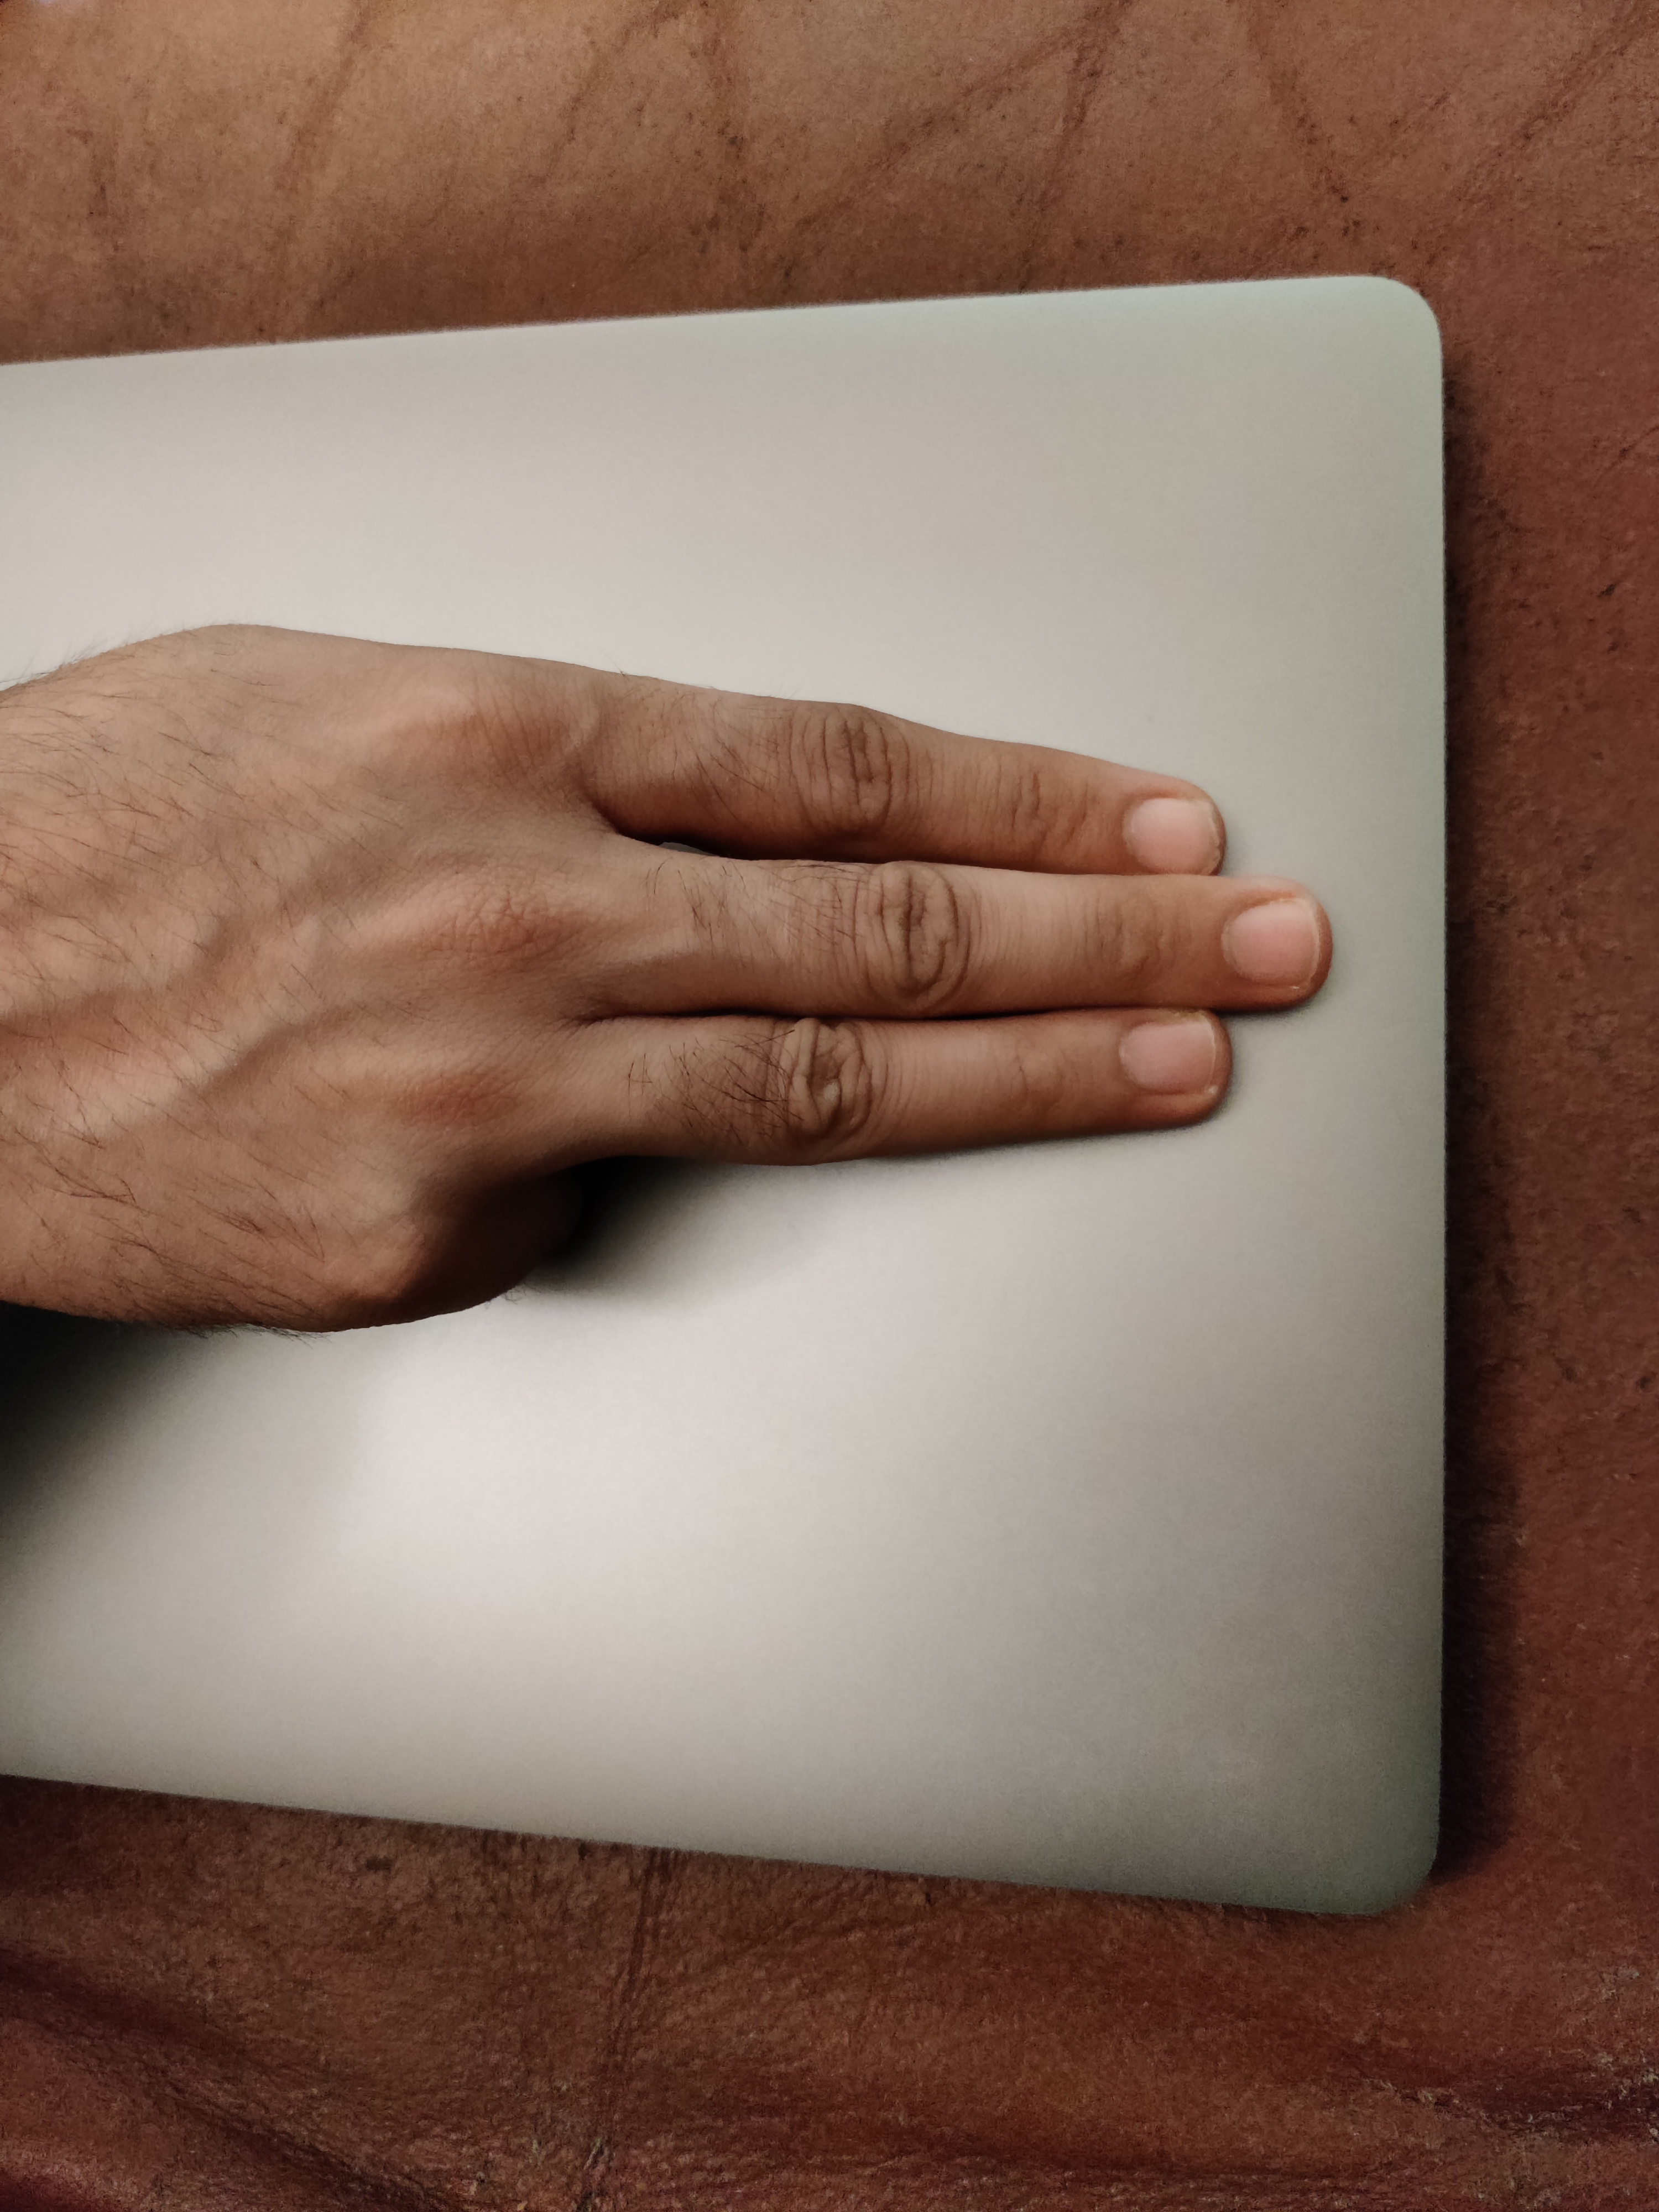left: (49, 449, 1424, 1503)
